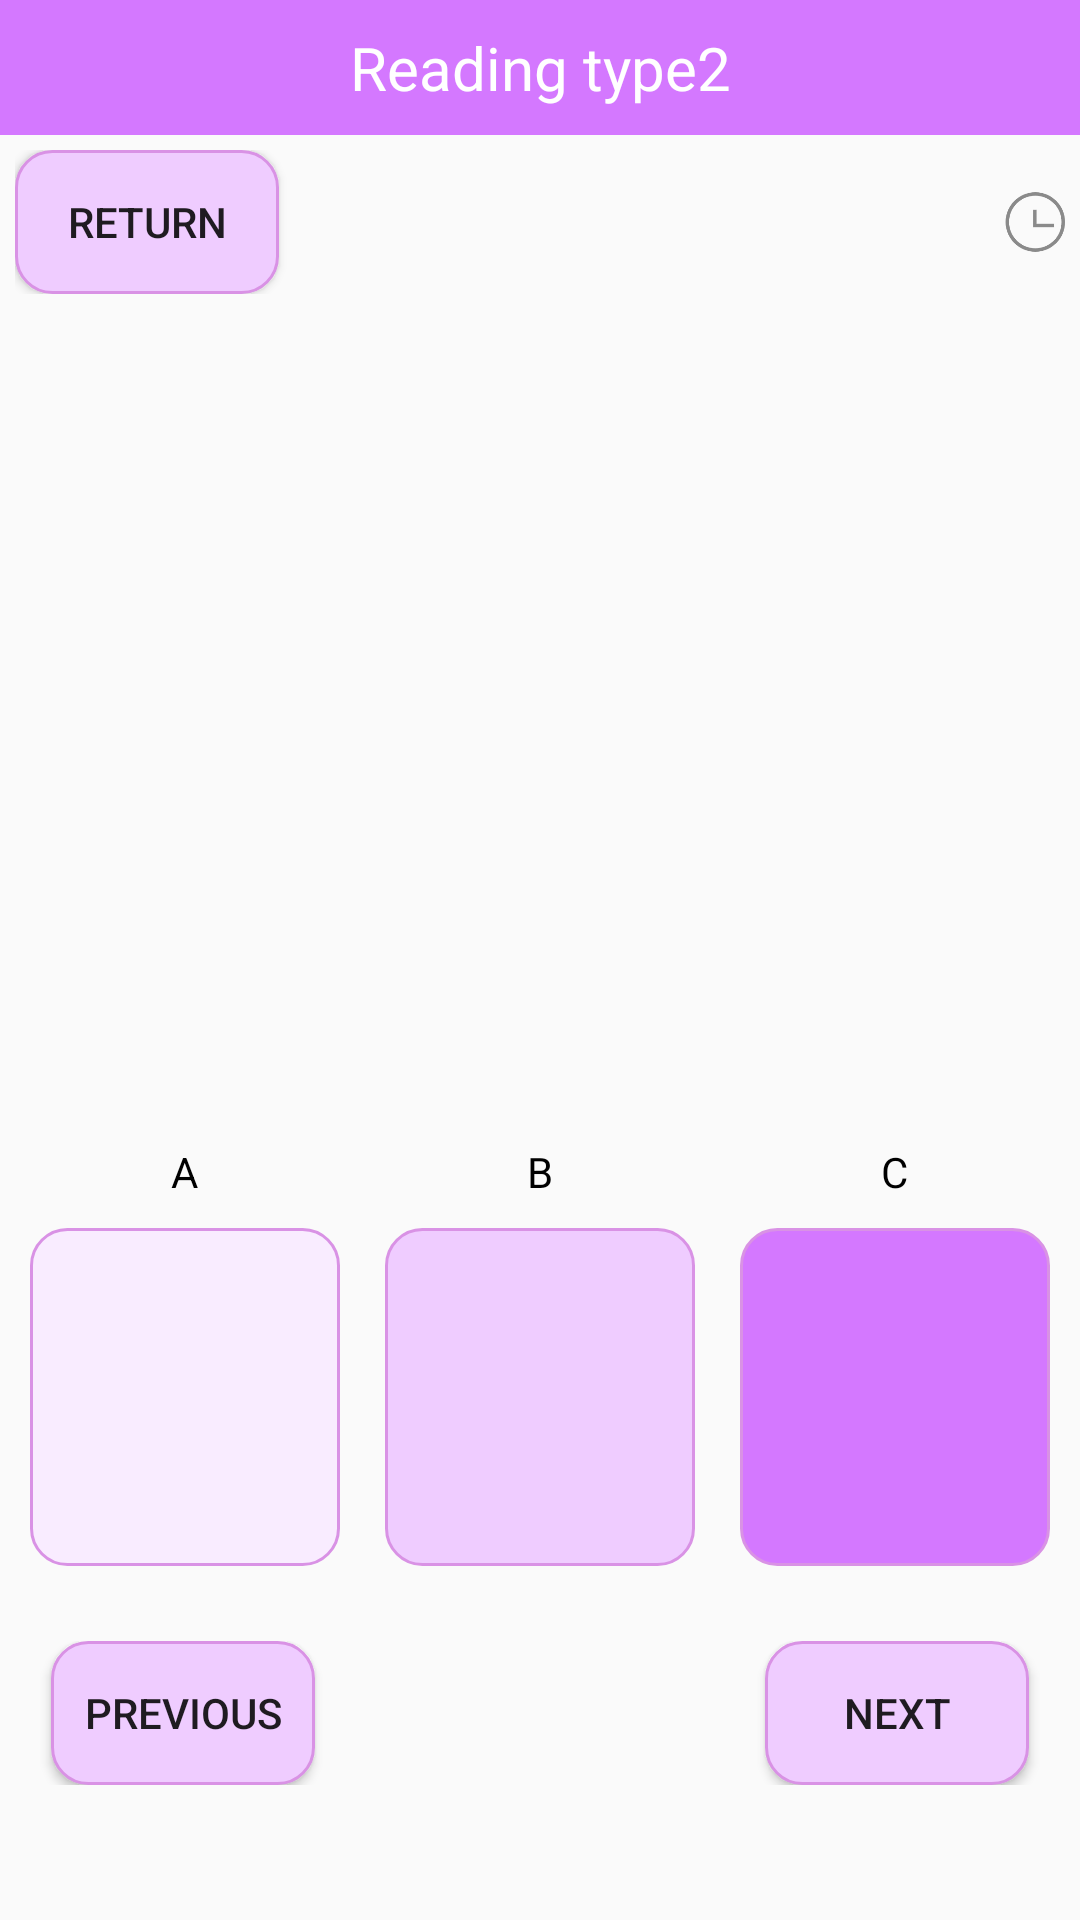

Screen size 1080px x 1920px. Icon name, then its box in pixels as (x1,y1,x2,y2):
time: (1005,192,1065,252)
